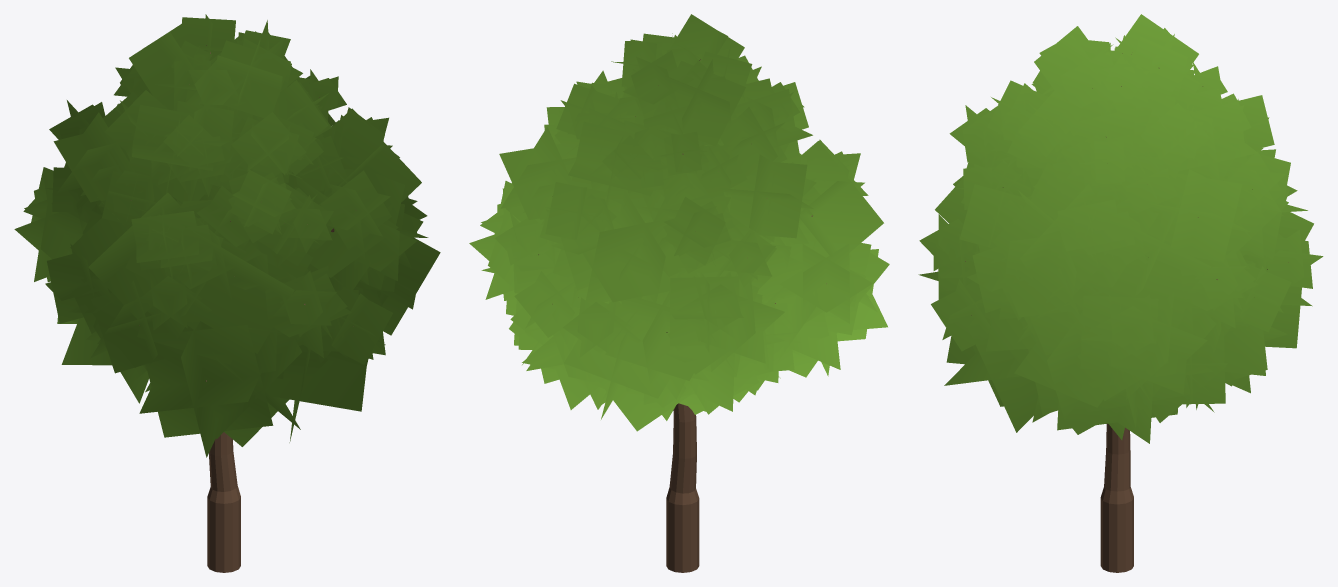
File: MapleTree.fbx
The picture shows the model from 3 angles, left to right: view 1: azimuth 30°, elevation 25°; view 2: azimuth 150°, elevation 25°; view 3: azimuth 270°, elevation 25°; orthographic projection.
Parts seen in each view (by area): view 1: MapleLeaves.282, MapleTrunk; view 2: MapleLeaves.282, MapleTrunk; view 3: MapleLeaves.282, MapleTrunk.
Boxes of the visible parts, box(x1,y1,x2,y2) form: MapleLeaves.282: box(14, 14, 440, 457); MapleTrunk: box(139, 84, 353, 572); MapleLeaves.282: box(469, 14, 889, 431); MapleTrunk: box(666, 215, 826, 572); MapleLeaves.282: box(918, 14, 1323, 443); MapleTrunk: box(965, 88, 1288, 572).
Bounding box in the file's own units: 914 × 1274 × 871.
